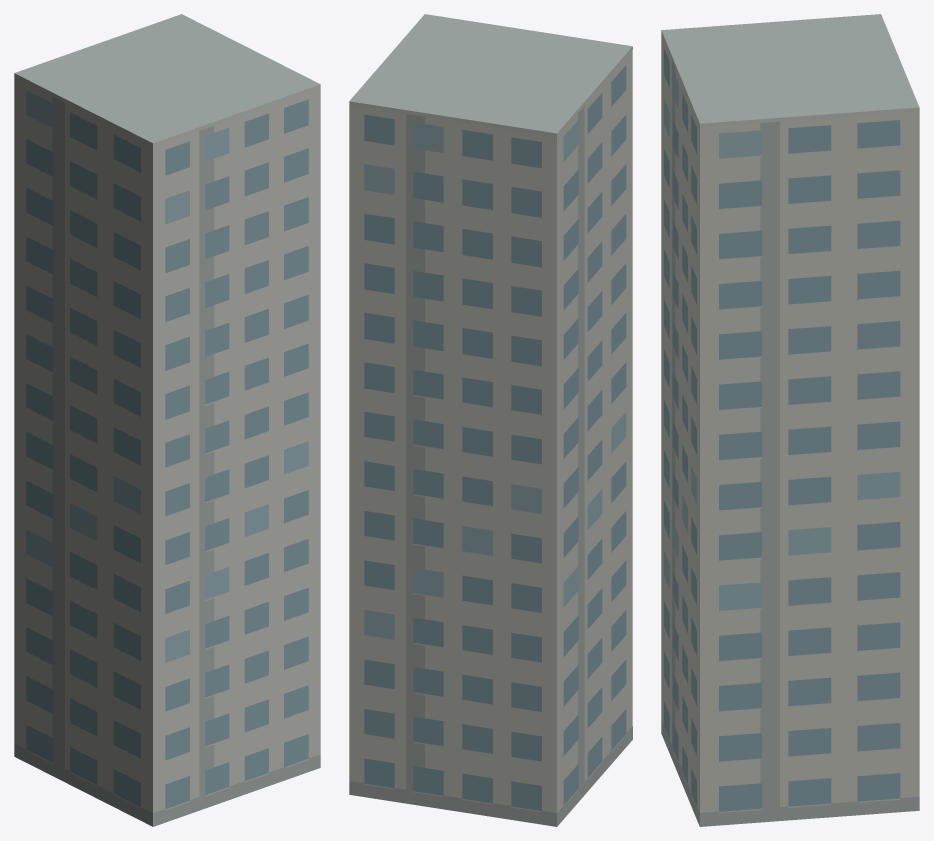
File: residential-fc50b370-16a4-491d-aa47-8ad22f68c073.glb
The picture shows the model from 3 angles, left to right: view 1: azimuth 30°, elevation 25°; view 2: azimuth 150°, elevation 25°; view 3: azimuth 270°, elevation 25°; orthographic projection. The views are drawn at different scales.
Parts seen in each view (by area): view 1: residential-fc50b370-16a4-491d-aa47-8ad22f68c073.tmp; view 2: residential-fc50b370-16a4-491d-aa47-8ad22f68c073.tmp; view 3: residential-fc50b370-16a4-491d-aa47-8ad22f68c073.tmp.
Part boxes in pixels (box(x1,y1,x2,y2)): residential-fc50b370-16a4-491d-aa47-8ad22f68c073.tmp: box(14, 14, 320, 826); residential-fc50b370-16a4-491d-aa47-8ad22f68c073.tmp: box(349, 14, 632, 826); residential-fc50b370-16a4-491d-aa47-8ad22f68c073.tmp: box(661, 14, 919, 826).
Size of the model in its own units: 14.72 by 44 by 14.65.
